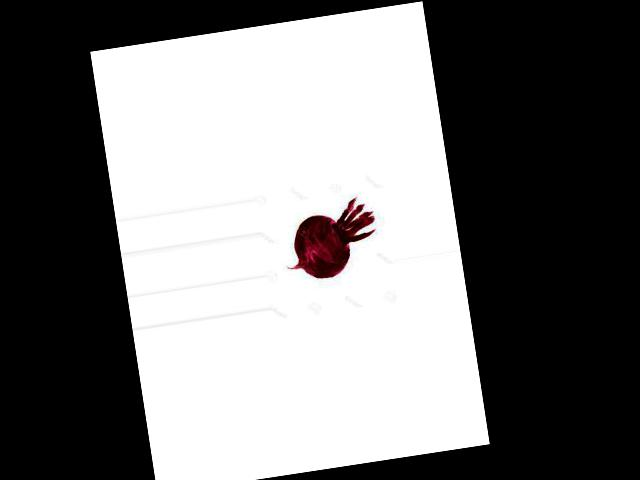beet: (277, 195, 382, 284)
